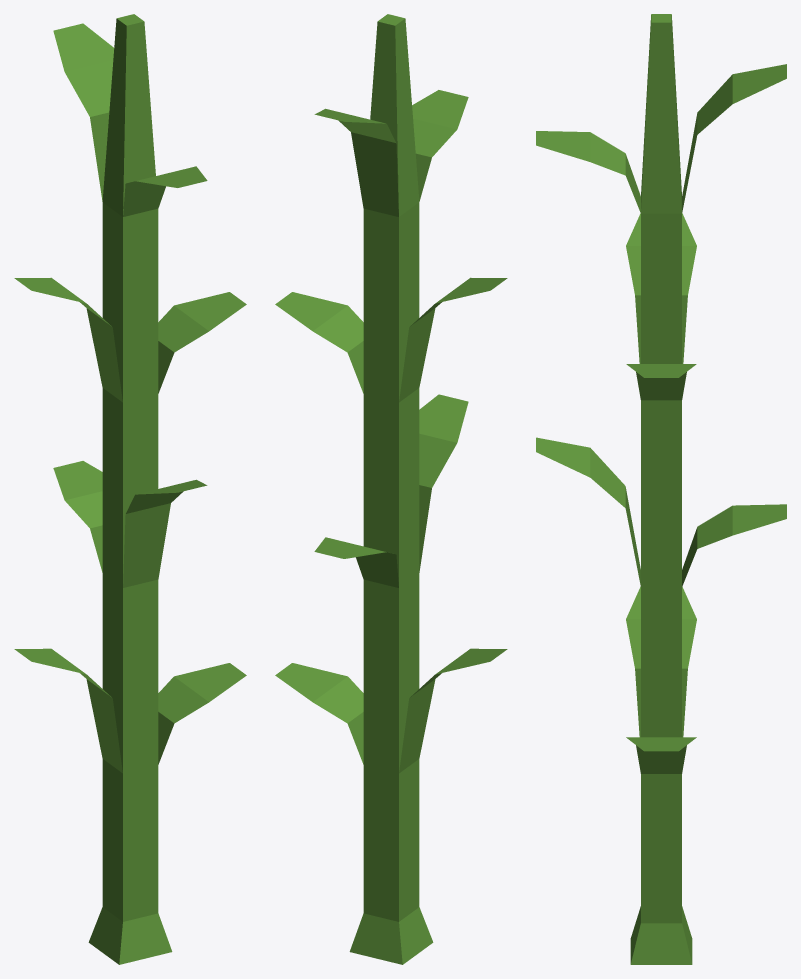
File: crops_cornStageC.glb
3 views of the same model, side by side, from view 1: azimuth 30°, elevation 25°; view 2: azimuth 150°, elevation 25°; view 3: azimuth 270°, elevation 25° (orthographic).
Visible parts, largest first — view 1: crops_cornStageC; view 2: crops_cornStageC; view 3: crops_cornStageC.
Part boxes in pixels (left/top/right/bottom): crops_cornStageC: left=14, top=14, right=246, bottom=964; crops_cornStageC: left=275, top=14, right=507, bottom=964; crops_cornStageC: left=536, top=14, right=786, bottom=964.
Size of the model in its own units: 0.3042 by 1.25 by 0.3042.
